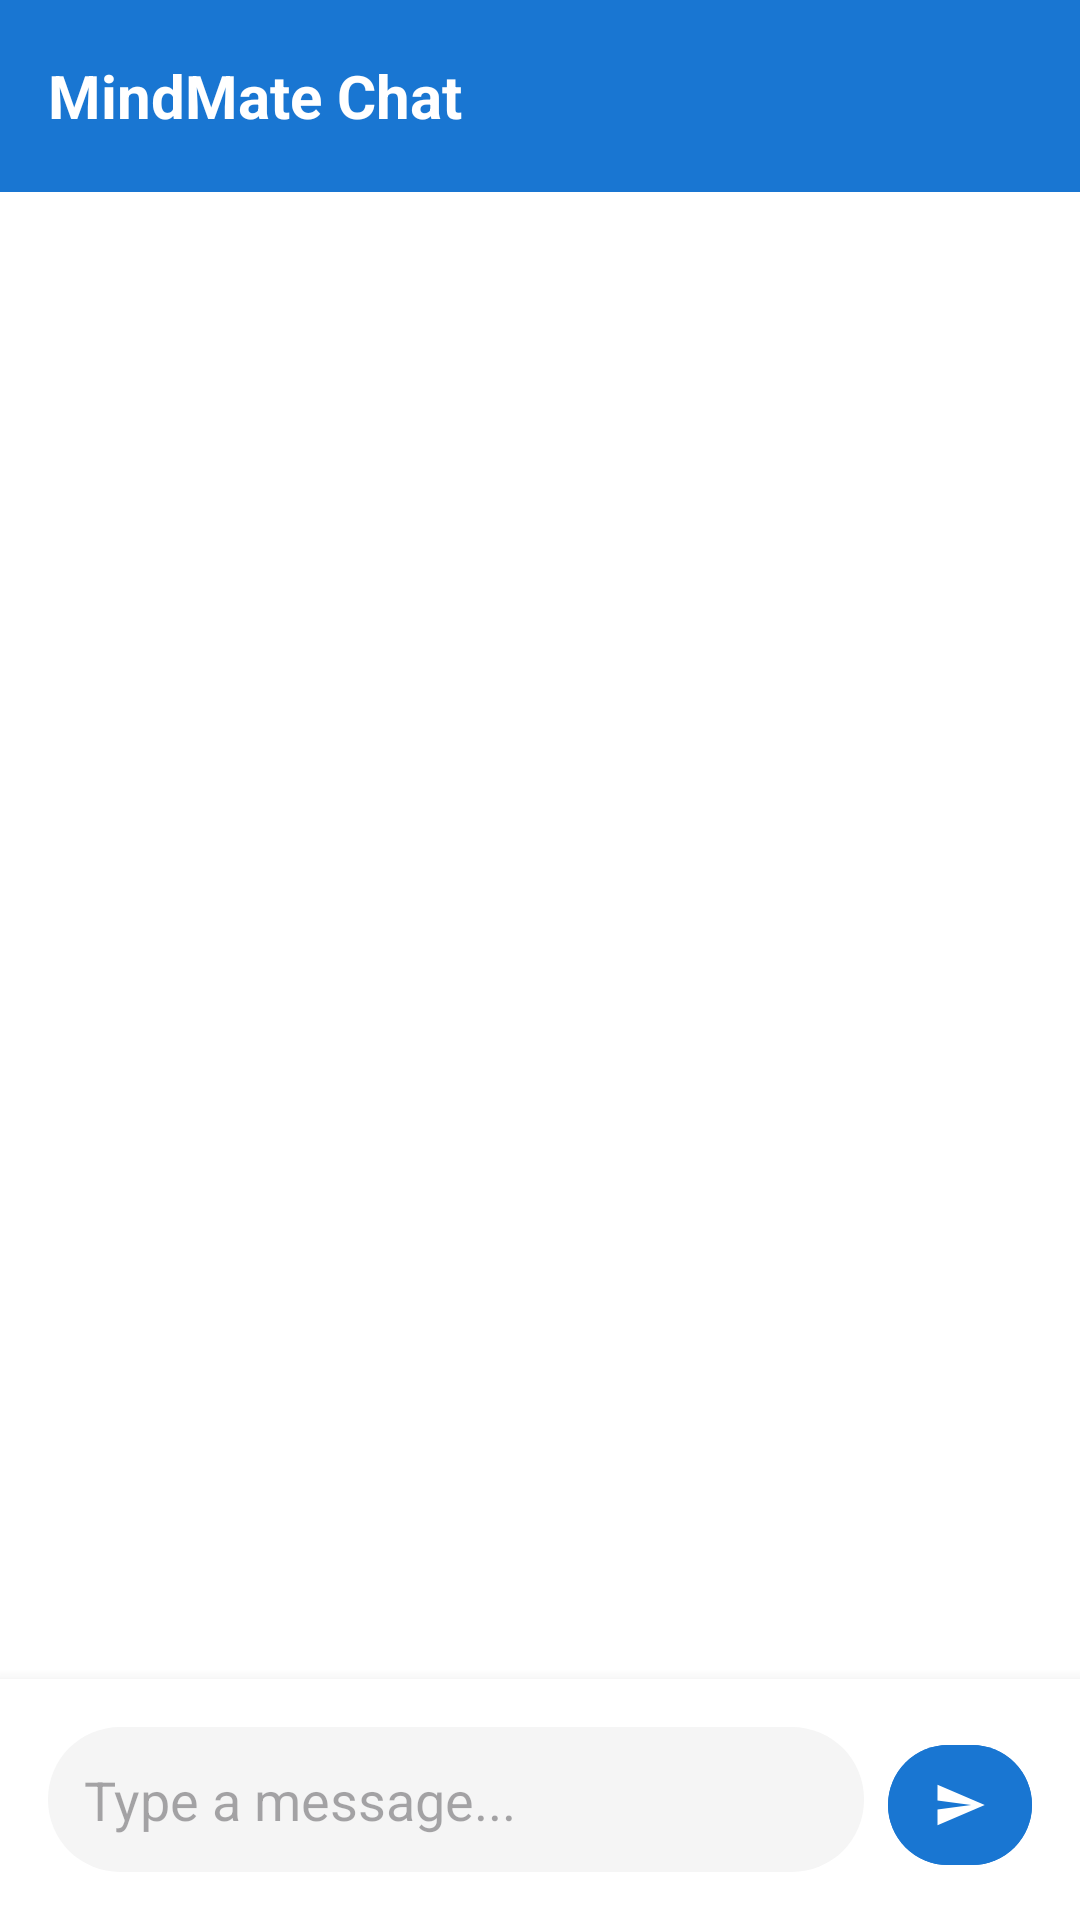

Icons on this 1080px x 1920px Android screen, each with the point to tap as point (x, y):
send: point (960, 1805)
